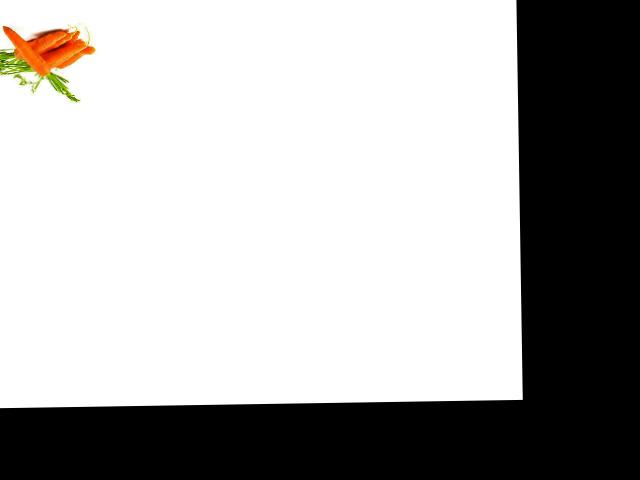carrot: (10, 31, 76, 59)
